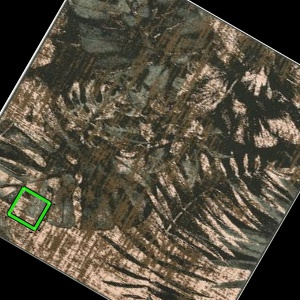square: (7, 184, 52, 233)
